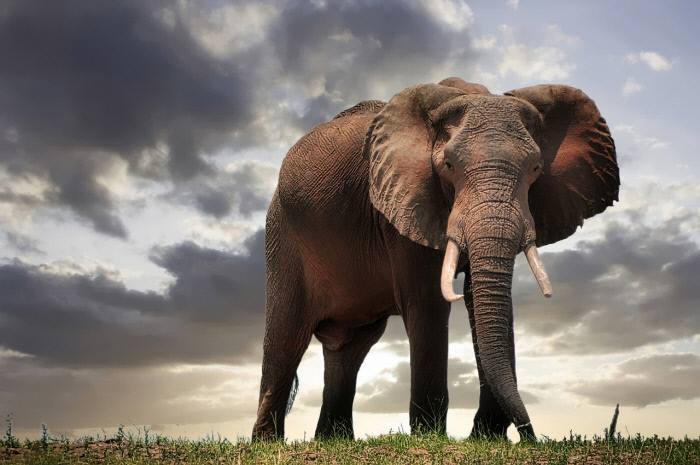Elephant: (228, 69, 631, 446)
